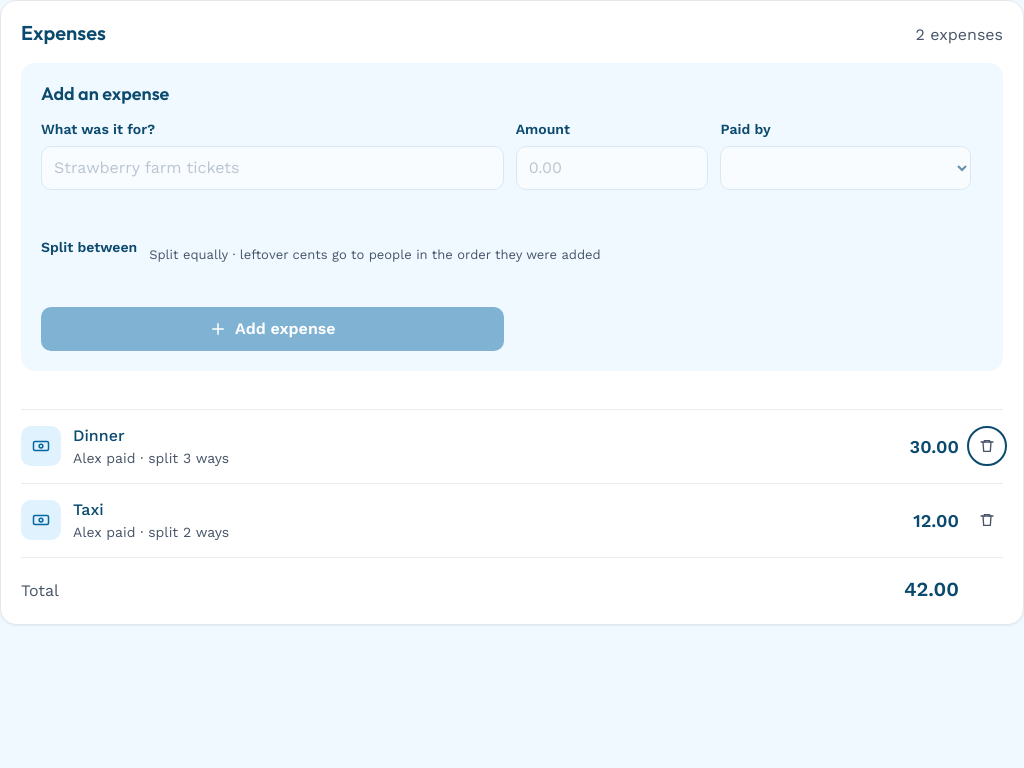
Scenario: ExpensesPanelComponent › Delete expense sends DELETE, removes the row, updates the total and count, and says it was deleted (F4.R9, F4.AC12)
The image size is (1024, 768).
What coordinates should you click on to do the following:
click the button named "Delete Dinner"
I would click on:
 (987, 446)
Its box is [971,430,1003,462].
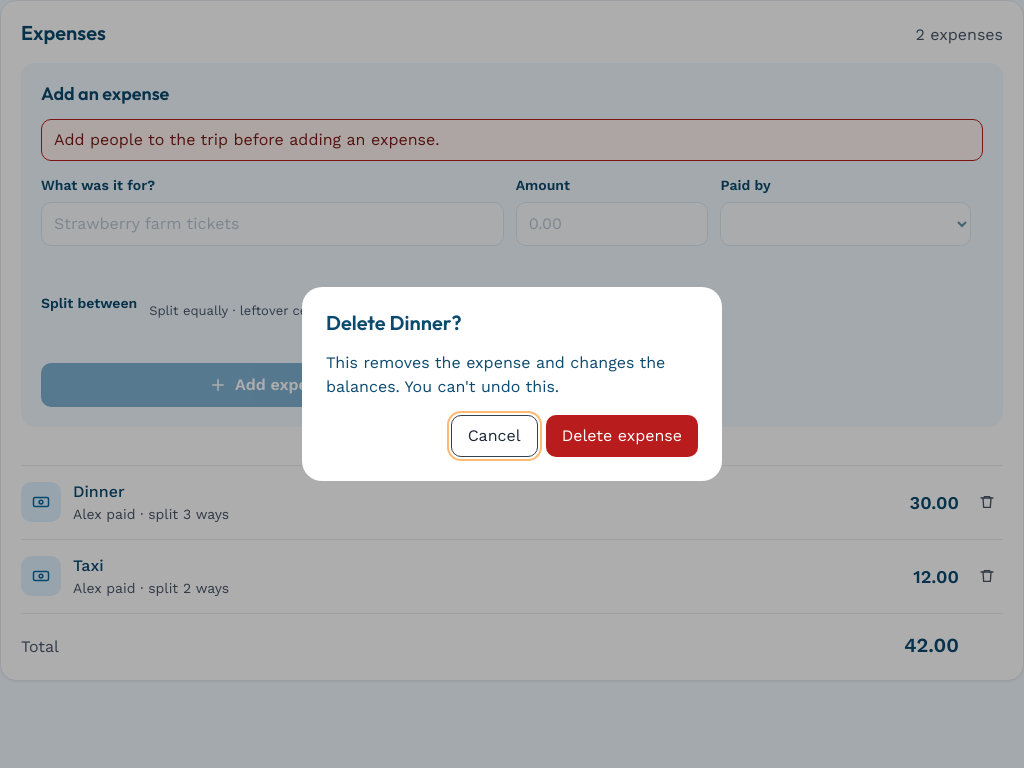
What coordinates should you click on to do the following:
click the button "Delete expense"
I would click on:
 (622, 436)
Its box is [546,415,698,457].
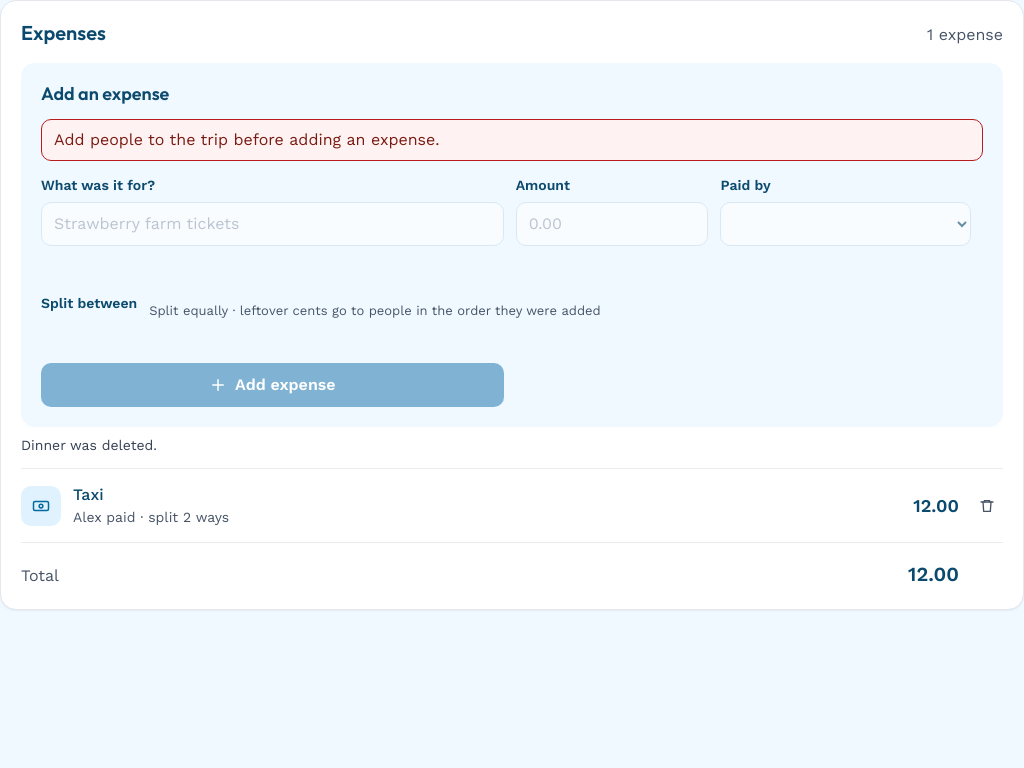
expect the dialog is gone: met
expect the heading "Delete Dinner" is gone: met
expect the text with class "expenses-panel__total-amount" reads "12.00": met, box [908,562,959,586]
